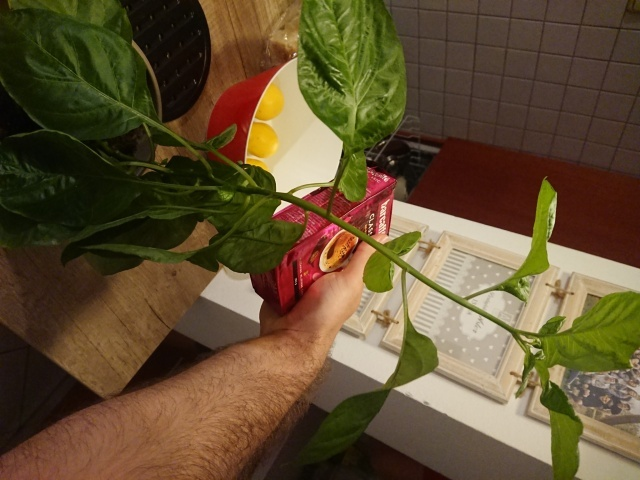Barcaffe Classic Original 225g: (247, 163, 399, 320)
